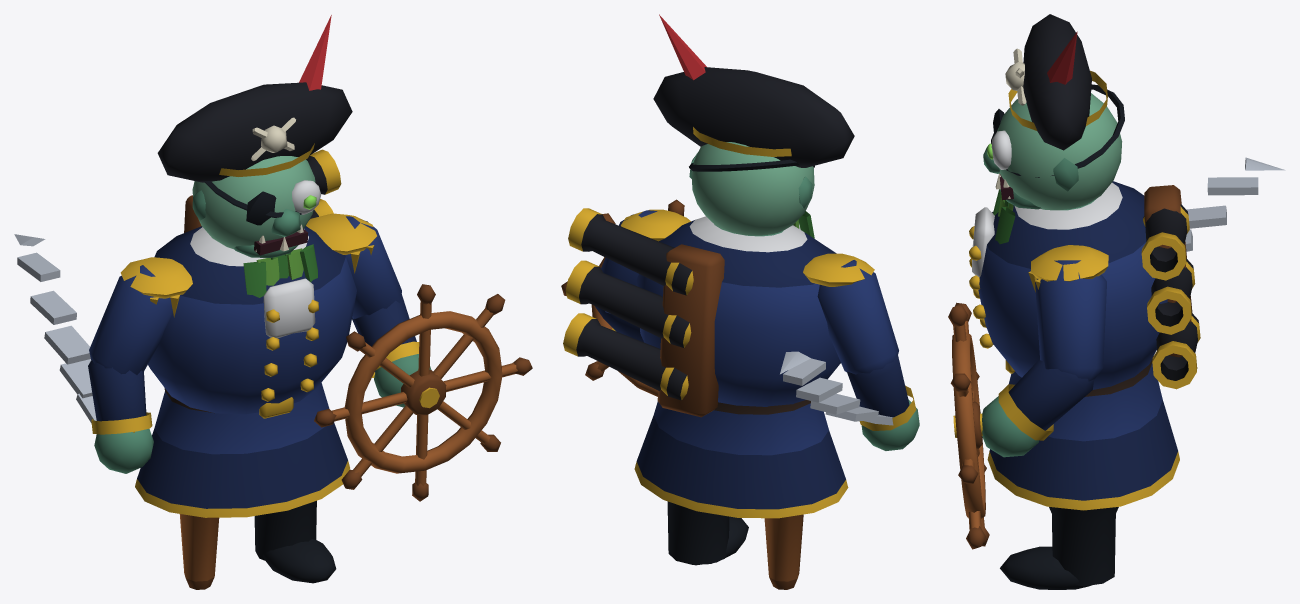
File: e_boss_untote.glb
3 views of the same model, side by side, from view 1: azimuth 30°, elevation 25°; view 2: azimuth 150°, elevation 25°; view 3: azimuth 270°, elevation 25° (orthographic). The views are drawn at different scales.
Visible parts, largest first — view 1: torso, skirt, wheel, hat, head, fore_r, arm_r, leg_l, sword, arm_l, fore_l, leg_r (+2 smaller); view 2: torso, skirt, hat, head, rack, arm_r, gun2, gun1, gun0, fore_r, leg_l, sword (+4 smaller); view 3: torso, skirt, head, hat, leg_l, arm_l, fore_l, wheel, gun2, gun0, gun1, sword (+2 smaller).
Boxes of the visible parts, box(x1,y1,x2,y2) form: torso: box(120, 213, 376, 414); skirt: box(135, 382, 349, 517); wheel: box(314, 284, 532, 501); hat: box(157, 15, 352, 182); head: box(192, 156, 321, 255); fore_r: box(88, 359, 153, 473); arm_r: box(89, 265, 172, 374); leg_l: box(254, 500, 336, 583); sword: box(14, 234, 134, 432); arm_l: box(345, 216, 401, 318); fore_l: box(352, 294, 431, 407); leg_r: box(179, 514, 219, 589); torso: box(621, 209, 874, 406); skirt: box(634, 400, 848, 518); hat: box(653, 14, 854, 167); head: box(689, 142, 814, 235); rack: box(658, 244, 724, 417); arm_r: box(817, 260, 898, 374); gun2: box(568, 208, 693, 295); gun1: box(565, 260, 691, 347); gun0: box(563, 313, 688, 400); fore_r: box(847, 355, 919, 450); leg_l: box(667, 501, 748, 565); sword: box(780, 351, 893, 425); torso: box(969, 181, 1167, 389); skirt: box(987, 358, 1179, 510); head: box(983, 84, 1124, 210); hat: box(1005, 14, 1107, 150); leg_l: box(1000, 507, 1118, 589); arm_l: box(1035, 260, 1106, 381); fore_l: box(982, 359, 1094, 457); wheel: box(948, 302, 989, 549); gun2: box(1141, 204, 1189, 280); gun0: box(1152, 313, 1200, 389); gun1: box(1147, 258, 1195, 334); sword: box(1185, 157, 1285, 251).
Size of the model in its own units: 4.02 by 5.3 by 2.81.
